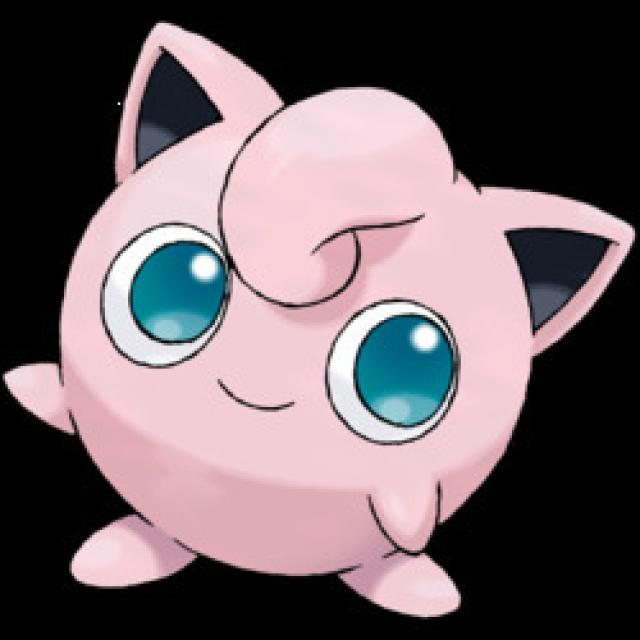Jigglypuff: (44, 23, 600, 605)
